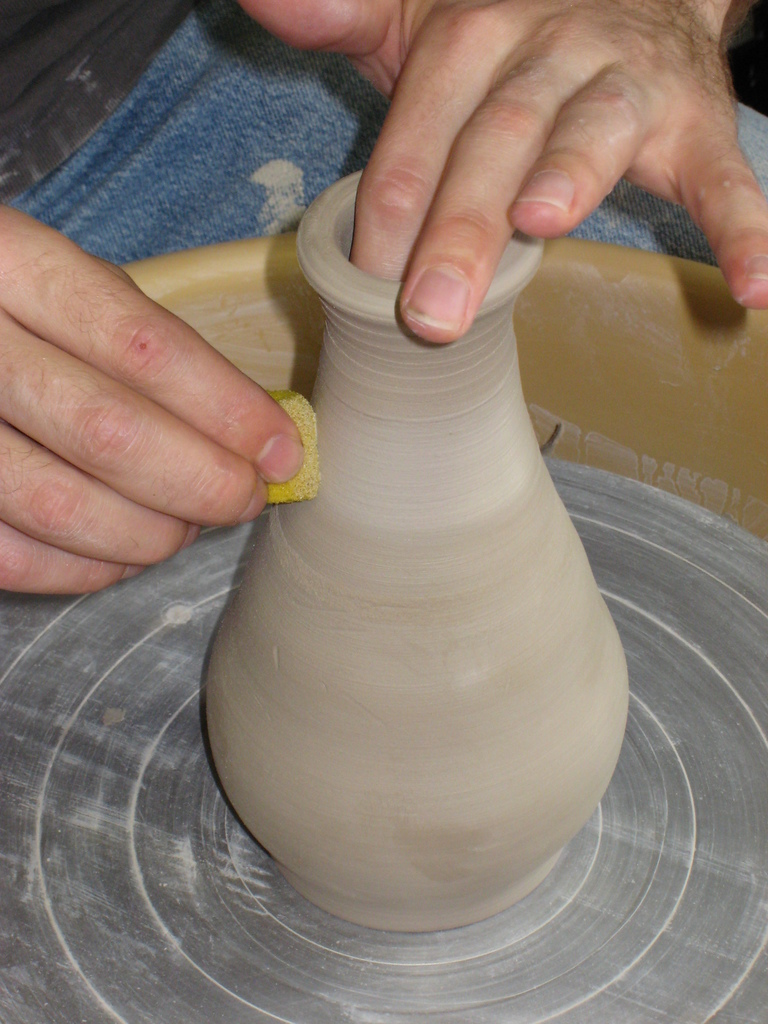person: (0, 200, 305, 596)
